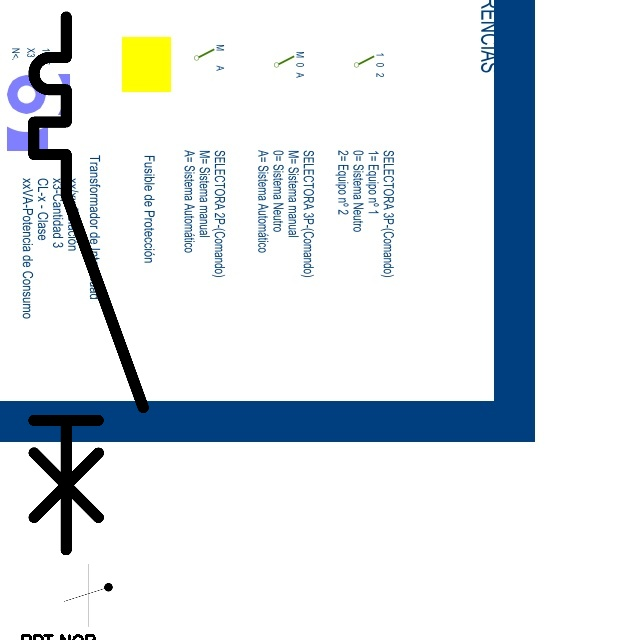interruptor_termomagnetico: (20, 3, 157, 564)
